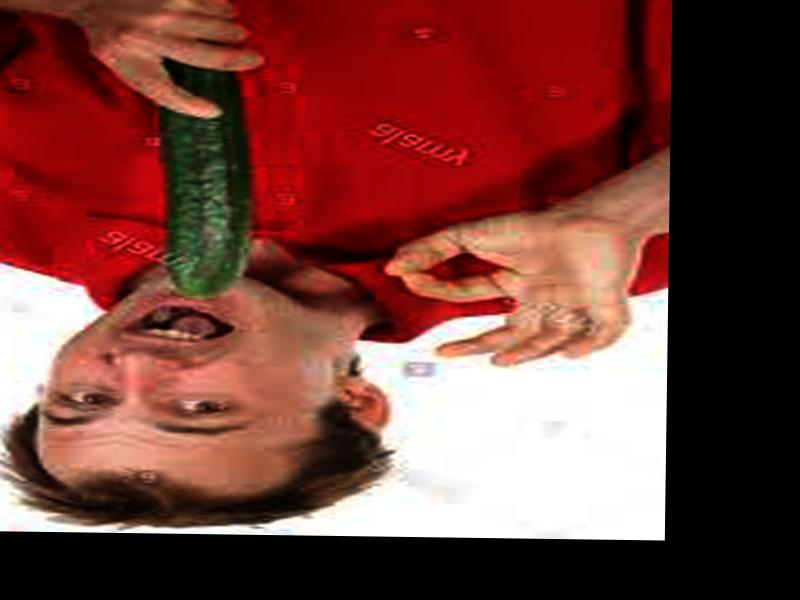Cucumber: (166, 63, 242, 296)
